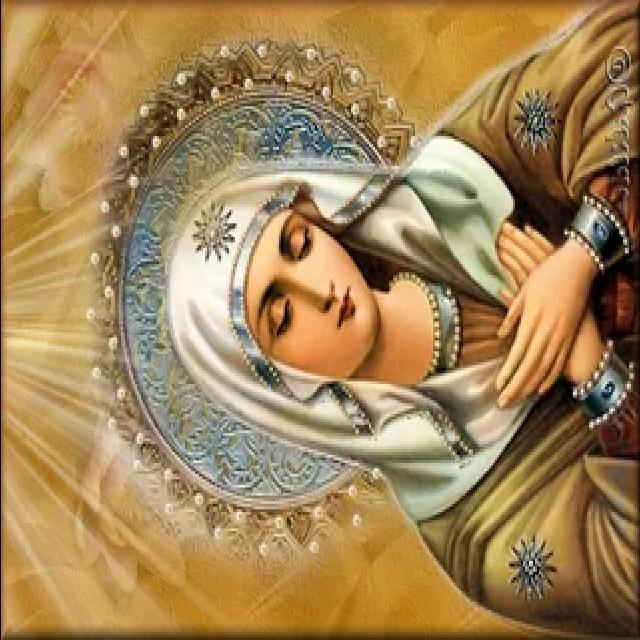mother of god: (146, 0, 640, 640)
